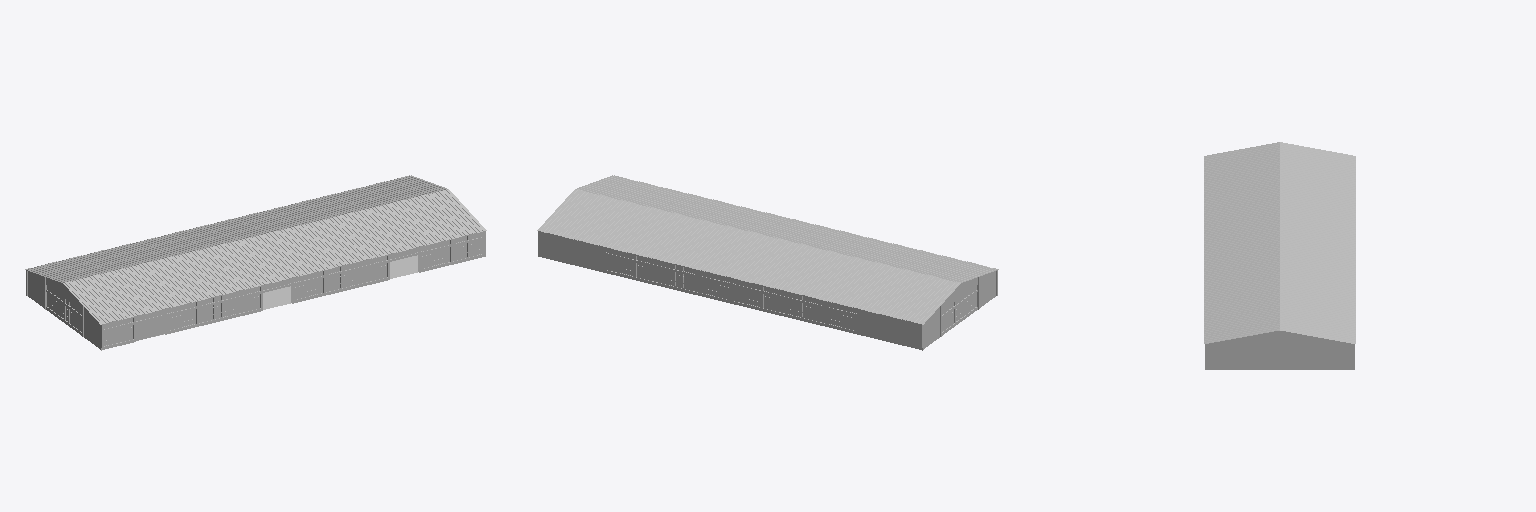
File: room.obj
3 views of the same model, side by side, from view 1: azimuth 30°, elevation 25°; view 2: azimuth 150°, elevation 25°; view 3: azimuth 270°, elevation 25° (orthographic).
Parts seen in each view (by area): view 1: roof_leftEnd, roof_rightEnd001, roof006, roof004, roof009, roof008, roof010, roof002, roof001, roof005, roof003, roof007; view 2: roof_leftEnd, roof_rightEnd001, roof006, roof004, roof009, roof008, roof010, roof002, roof001, roof005, roof003, roof007 (+5 smaller); view 3: roof_rightEnd001, roof_leftEnd, roof009, roof007, roof006, roof004, roof002, roof008, roof005, roof001, roof010, roof003 (+4 smaller).
Boxes of the visible parts, <box> form: roof_leftEnd: <box>25,261,134,324</box>; roof_rightEnd001: <box>378,175,486,238</box>; roof006: <box>220,214,324,276</box>; roof004: <box>155,230,261,292</box>; roof009: <box>315,191,419,253</box>; roof008: <box>282,199,387,261</box>; roof010: <box>346,183,451,245</box>; roof002: <box>93,245,197,307</box>; roof001: <box>62,253,165,315</box>; roof005: <box>188,222,292,284</box>; roof003: <box>124,238,229,300</box>; roof007: <box>251,207,356,269</box>; roof_leftEnd: <box>889,261,998,324</box>; roof_rightEnd001: <box>537,175,645,238</box>; roof006: <box>699,214,803,276</box>; roof004: <box>762,230,868,292</box>; roof009: <box>604,191,708,253</box>; roof008: <box>636,199,741,261</box>; roof010: <box>572,183,677,245</box>; roof002: <box>826,245,930,307</box>; roof001: <box>858,253,961,315</box>; roof005: <box>731,222,835,284</box>; roof003: <box>794,238,899,300</box>; roof007: <box>667,207,772,269</box>; roof_rightEnd001: <box>1204,313,1355,343</box>; roof_leftEnd: <box>1204,142,1355,171</box>; roof009: <box>1204,282,1355,311</box>; roof007: <box>1204,251,1355,280</box>; roof006: <box>1204,236,1355,264</box>; roof004: <box>1204,205,1355,233</box>; roof002: <box>1204,174,1355,202</box>; roof008: <box>1204,267,1355,295</box>; roof005: <box>1204,220,1355,249</box>; roof001: <box>1204,158,1355,187</box>; roof010: <box>1204,298,1355,326</box>; roof003: <box>1204,189,1355,218</box>.
Size of the model in its own units: 93.01 by 9.3 by 31.55.